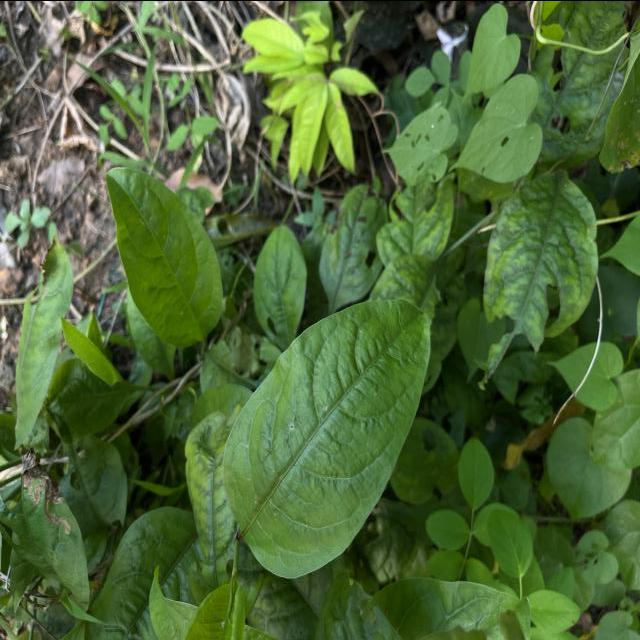Plumbago indica: (214, 292, 436, 580), (101, 160, 227, 346)
